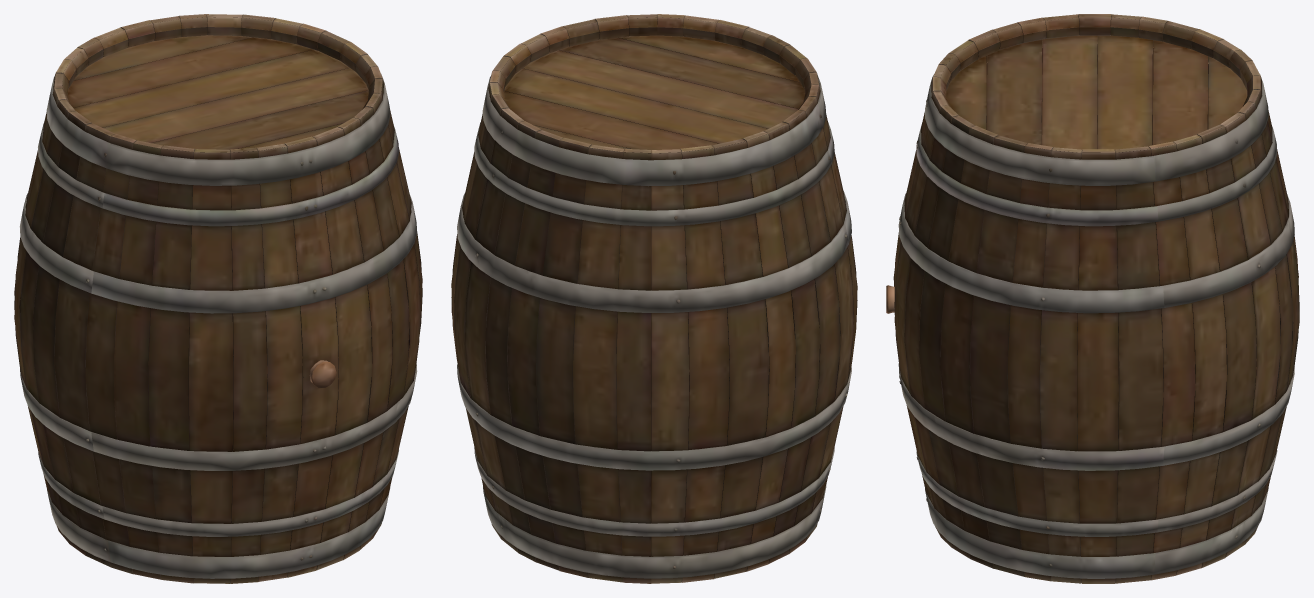
The model's file is wine_barrel_01.glb.
3 views of the same model, side by side, from view 1: azimuth 30°, elevation 25°; view 2: azimuth 150°, elevation 25°; view 3: azimuth 270°, elevation 25° (orthographic).
Parts seen in each view (by area): view 1: wine_barrel_01, wine_barrel_01_Lid, wine_barrel_01_bung; view 2: wine_barrel_01, wine_barrel_01_Lid; view 3: wine_barrel_01, wine_barrel_01_Lid.
Boxes of the visible parts, bbox=[...] form: wine_barrel_01: bbox=[14, 14, 422, 583]; wine_barrel_01_Lid: bbox=[67, 35, 368, 149]; wine_barrel_01_bung: bbox=[309, 360, 336, 387]; wine_barrel_01: bbox=[451, 14, 857, 583]; wine_barrel_01_Lid: bbox=[504, 35, 805, 152]; wine_barrel_01: bbox=[893, 14, 1299, 583]; wine_barrel_01_Lid: bbox=[946, 35, 1247, 149].
Bounding box in the file's own units: 0.7422 × 0.8713 × 0.756.
Materials: 1 (1 with a texture image).
